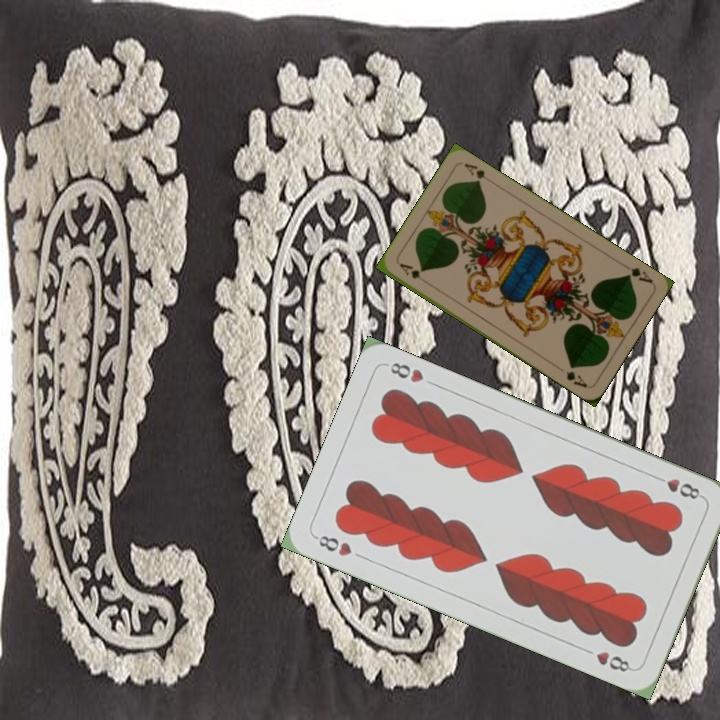GA: (621, 263, 655, 286), (395, 259, 423, 281)
H8: (650, 471, 706, 502), (310, 531, 355, 559)
